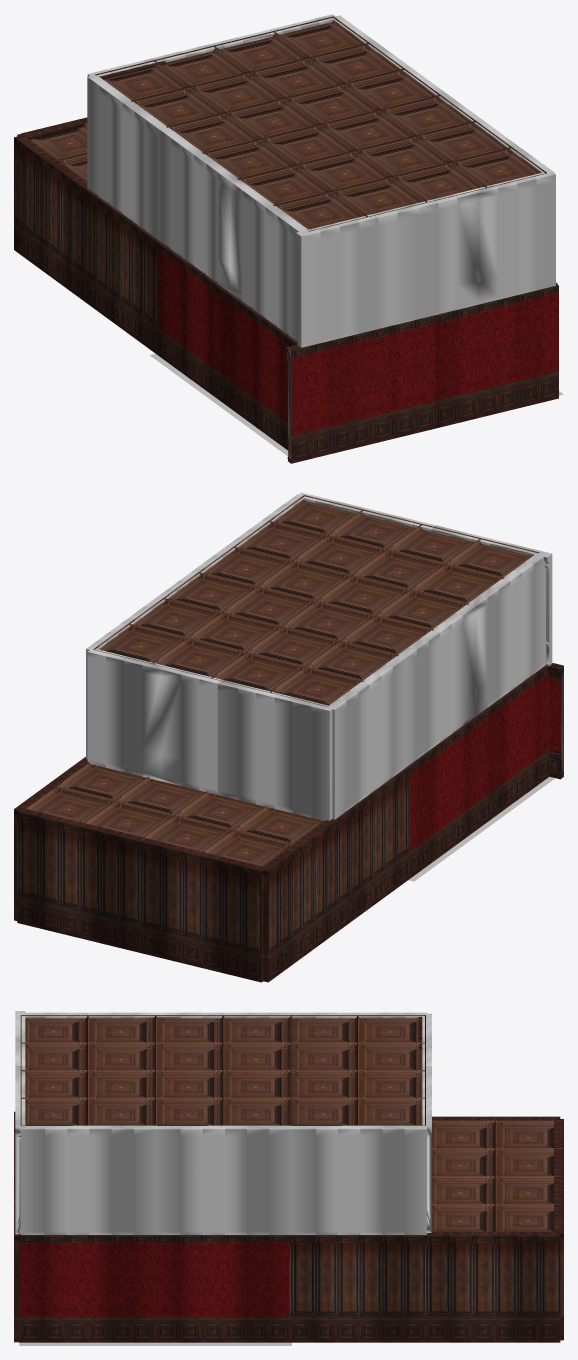
File: DollRooms.fbx
3 views of the same model, one above another, from view 1: azimuth 30°, elevation 25°; view 2: azimuth 150°, elevation 25°; view 3: azimuth 270°, elevation 25° (orthographic). The views are drawn at different scales.
Parts seen in each view (by area): view 1: Doll Rooms; view 2: Doll Rooms; view 3: Doll Rooms.
Part boxes in pixels (left/top/right/bottom): Doll Rooms: left=14, top=14, right=563, bottom=463; Doll Rooms: left=14, top=492, right=563, bottom=982; Doll Rooms: left=14, top=1011, right=563, bottom=1345.
Size of the model in its own units: 1385 by 1084 by 2526.
